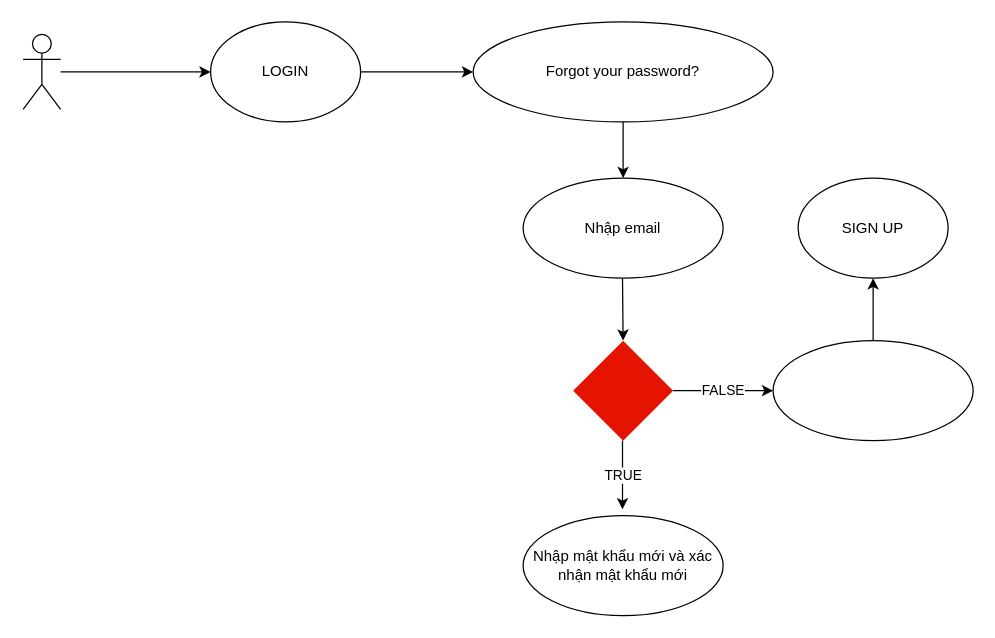
This 995x638 diagram has some shape labels left out. Here are the shapes that lost their labels. From the top down, the centre of each, then its label:
At [41,71]: "USER".
At [872,390]: "Email chưa đăng ký tài khoản".
